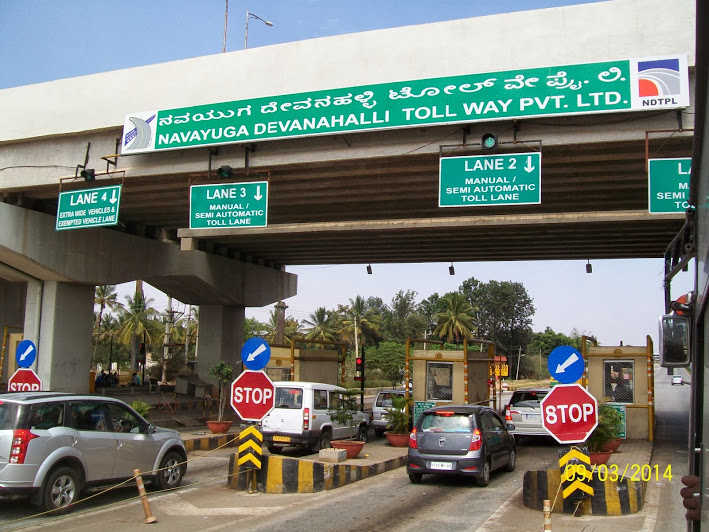toll plaza: (14, 54, 696, 251)
